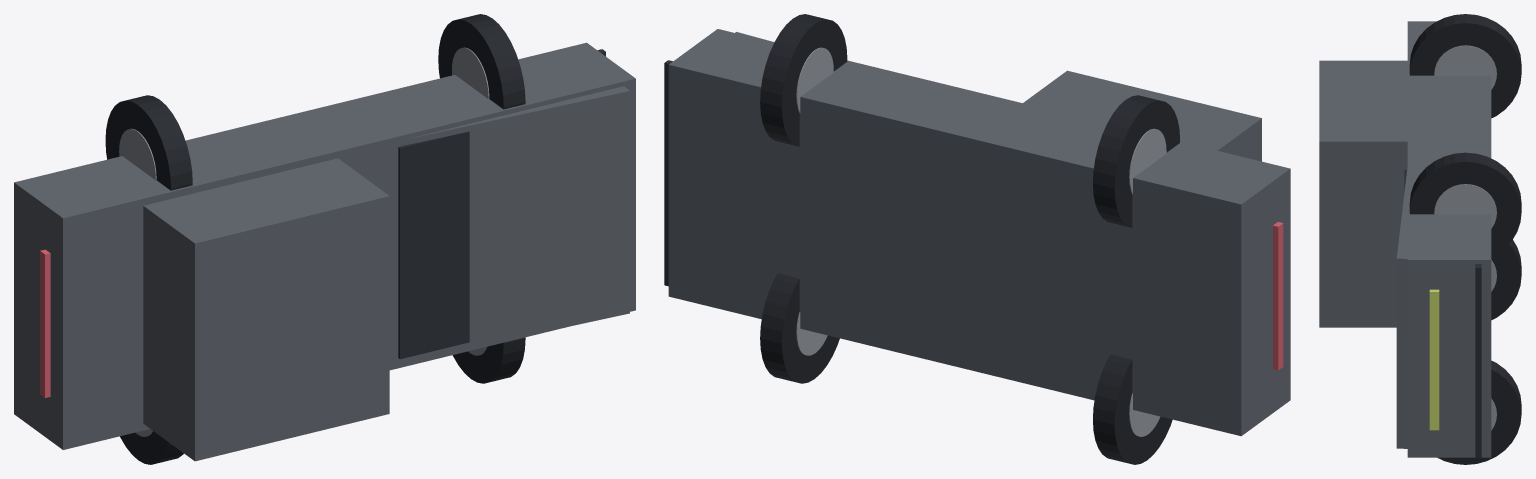
Rendered from truck.glb.
3 views of the same model, side by side, from view 1: azimuth 30°, elevation 25°; view 2: azimuth 150°, elevation 25°; view 3: azimuth 270°, elevation 25° (orthographic). The views are drawn at different scales.
Parts seen in each view (by area): view 1: part2, part0, part1, part3, part11, part7, part9, part14, part5, part8, part12; view 2: part0, part2, part11, part7, part5, part9, part14, part12, part8, part15, part10, part6; view 3: part0, part2, part11, part7, part1, part9, part5, part12, part8, part13, part15.
Boxes of the visible parts, x1,y1,x2,y2 form: part2: [143, 158, 389, 461]; part0: [14, 42, 635, 449]; part1: [402, 86, 629, 362]; part3: [398, 131, 469, 359]; part11: [438, 14, 525, 109]; part7: [105, 95, 192, 190]; part9: [452, 337, 525, 383]; part14: [40, 249, 50, 397]; part5: [120, 431, 183, 464]; part8: [119, 128, 156, 180]; part12: [452, 47, 489, 98]; part0: [668, 29, 1290, 436]; part2: [1023, 70, 1261, 161]; part11: [760, 14, 847, 146]; part7: [1093, 95, 1179, 227]; part5: [1093, 354, 1172, 464]; part9: [760, 273, 839, 383]; part14: [1273, 222, 1283, 370]; part12: [796, 47, 833, 112]; part8: [1129, 128, 1166, 194]; part15: [664, 60, 672, 286]; part10: [796, 312, 827, 355]; part6: [1129, 393, 1160, 436]; part0: [1407, 21, 1491, 457]; part2: [1319, 60, 1407, 327]; part11: [1409, 152, 1521, 256]; part7: [1409, 14, 1521, 118]; part1: [1396, 167, 1407, 448]; part9: [1437, 360, 1521, 464]; part5: [1491, 240, 1521, 320]; part12: [1434, 184, 1496, 228]; part8: [1434, 45, 1496, 89]; part13: [1429, 289, 1439, 430]; part15: [1475, 264, 1481, 457].
Bounding box in the file's own units: 5.39 × 3.11 × 1.88.
